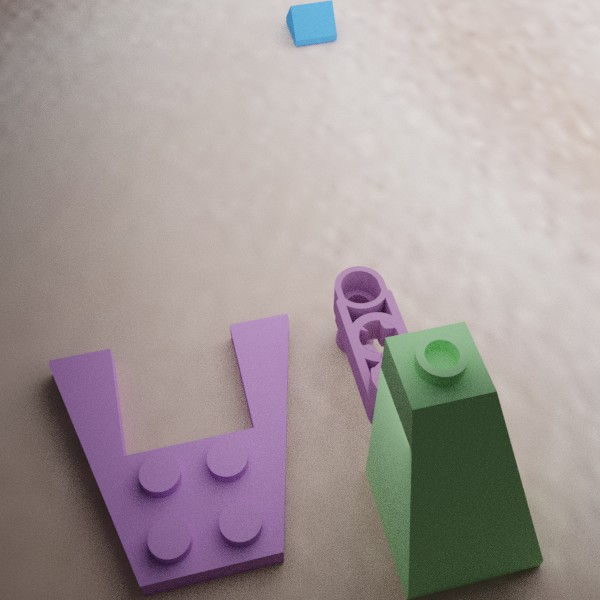lego: (48, 313, 289, 596), (365, 321, 543, 600), (333, 266, 436, 437), (286, 0, 337, 46)
